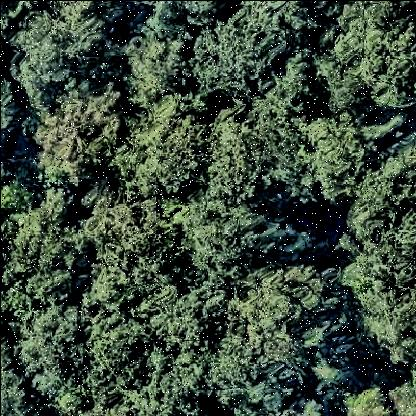tree-top: (345, 128, 416, 366), (68, 300, 204, 416), (209, 276, 309, 408), (105, 93, 209, 207), (315, 7, 415, 120), (15, 5, 115, 104), (4, 193, 82, 305), (86, 205, 174, 303), (195, 1, 288, 92), (179, 201, 287, 278), (38, 84, 120, 183), (6, 306, 86, 402), (253, 80, 315, 189), (298, 117, 366, 202), (124, 34, 195, 102), (214, 117, 254, 203), (343, 383, 392, 416)
